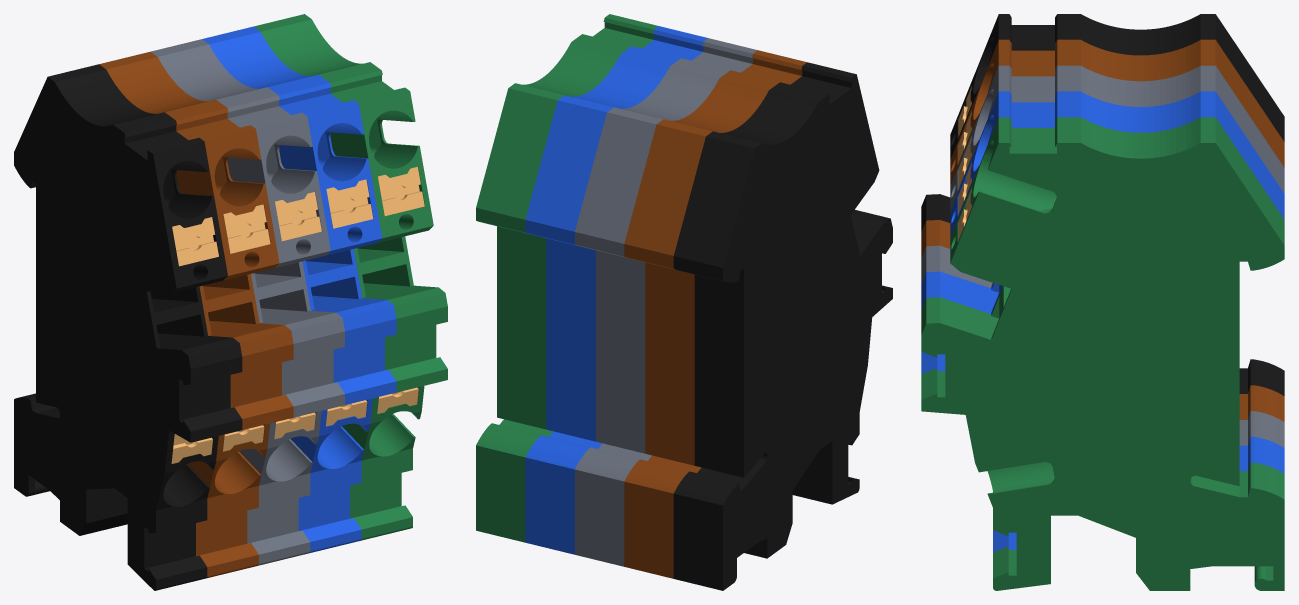
File: conjunto-bornes-trifasico.glb
The picture shows the model from 3 angles, left to right: view 1: azimuth 30°, elevation 25°; view 2: azimuth 150°, elevation 25°; view 3: azimuth 270°, elevation 25°; orthographic projection. The views are drawn at different scales.
Parts seen in each view (by area): view 1: Node1 (×5), Node3 (×5); view 2: Node1 (×5); view 3: Node1 (×5).
Boxes of the visible parts, x1,y1,x2,y2 form: Node1 (×5): (14, 14, 447, 590); Node3 (×5): (171, 167, 424, 463); Node1 (×5): (476, 14, 892, 590); Node1 (×5): (921, 14, 1284, 590).
Size of the model in its own units: 40.75 by 66.01 by 48.5.
